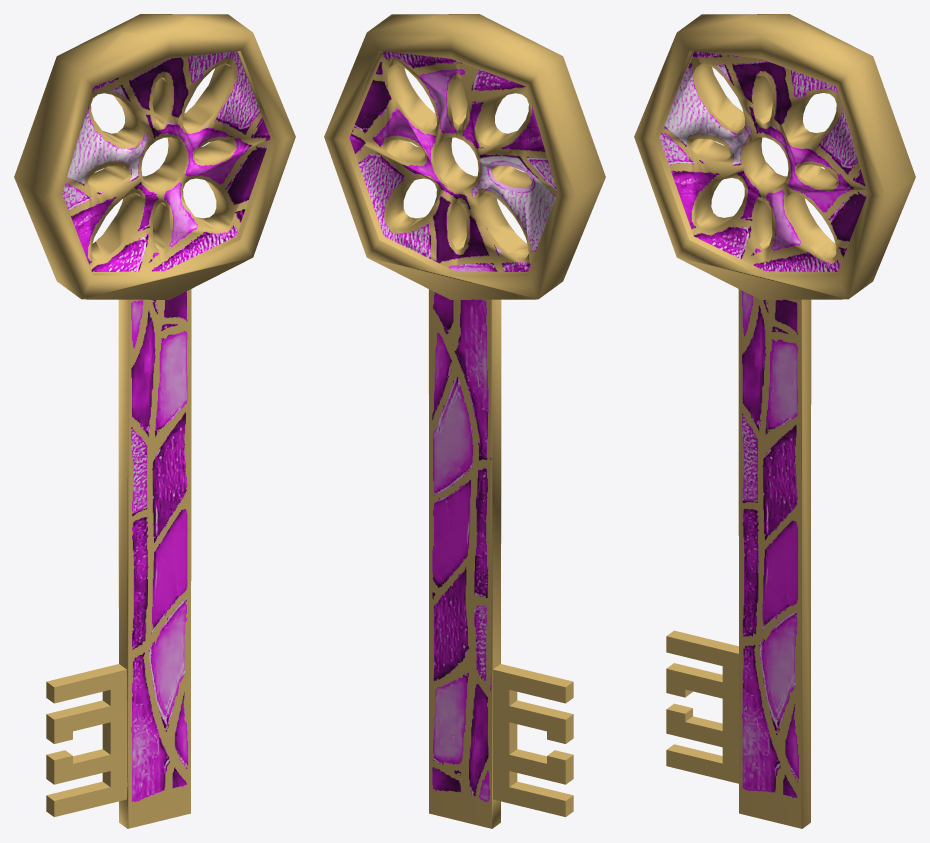
The model's file is key04.glb.
The picture shows the model from 3 angles, left to right: view 1: azimuth 30°, elevation 25°; view 2: azimuth 150°, elevation 25°; view 3: azimuth 330°, elevation 25°; orthographic projection.
Parts seen in each view (by area): view 1: key02; view 2: key02; view 3: key02.
Part boxes in pixels (box(x1,y1,x2,y2)): key02: box(14, 14, 295, 828); key02: box(324, 14, 605, 828); key02: box(634, 14, 915, 828).
Size of the model in its own units: 0.25 by 0.75 by 0.05.
2 materials, 1 textured.
